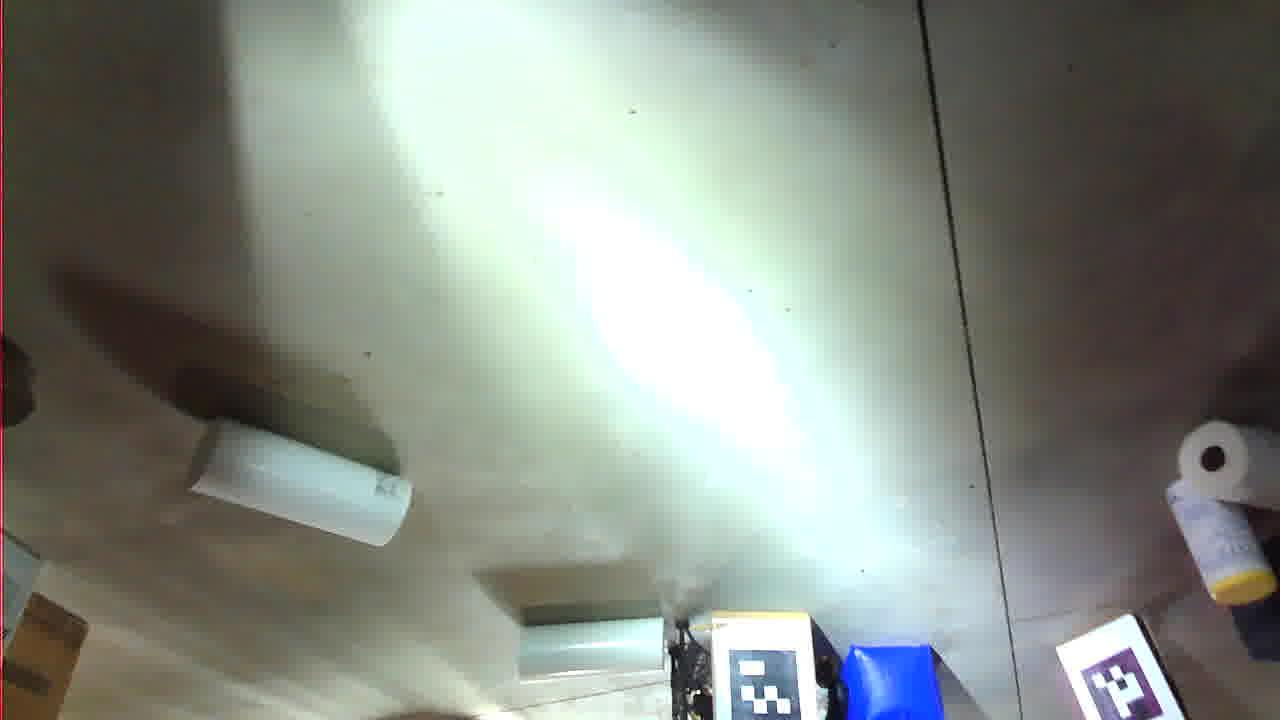coral: (866, 173, 1093, 301), (616, 35, 762, 103)
